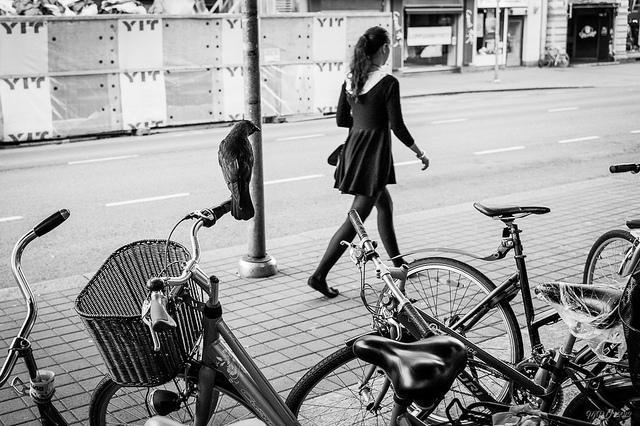bicycle: (73, 198, 398, 422), (394, 196, 640, 422), (354, 332, 570, 420), (338, 202, 458, 339), (0, 206, 72, 421), (584, 162, 640, 288)
